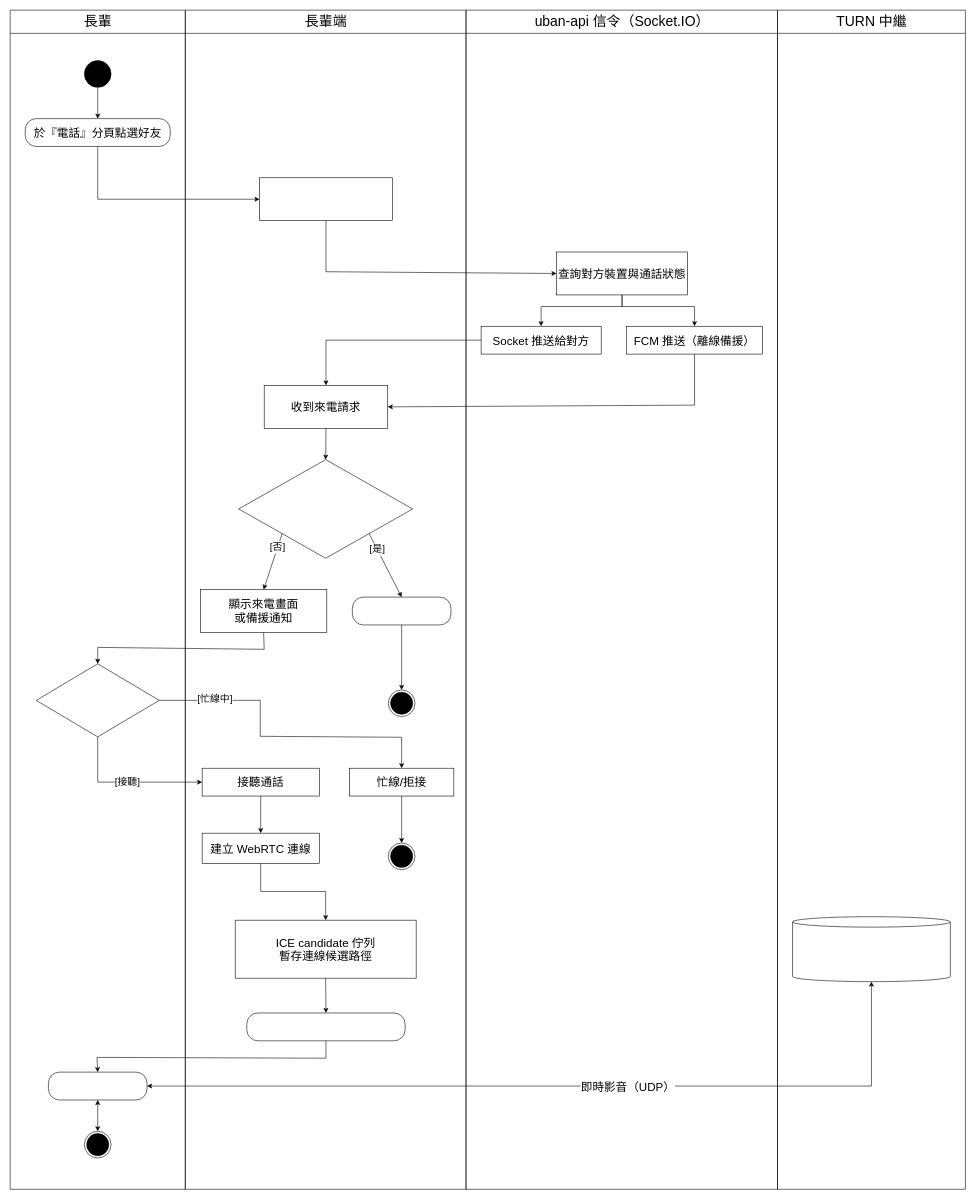
This 976x1199 diagram has some shape labels left out. Each missing label, with the centre of its shape:
Oracle Cloud 媒體中繼伺服器: (x=871, y=949)
丟棄，不響鈴: (x=401, y=611)
來電響鈴 是否接聽？: (x=97, y=700)
指定接聽對象 發起通話請求: (x=325, y=199)
通話請求是否已逾期？: (x=325, y=508)
進入通話畫面: (x=325, y=1026)
進行視訊通話: (x=97, y=1086)
